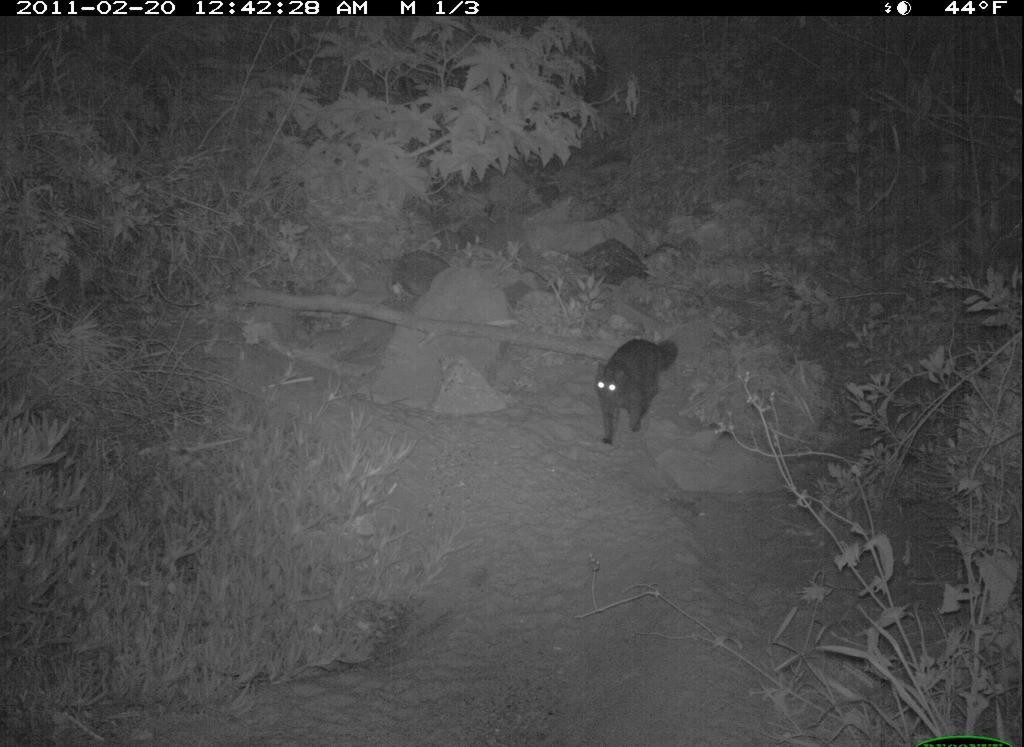cat: (580, 337, 693, 446)
